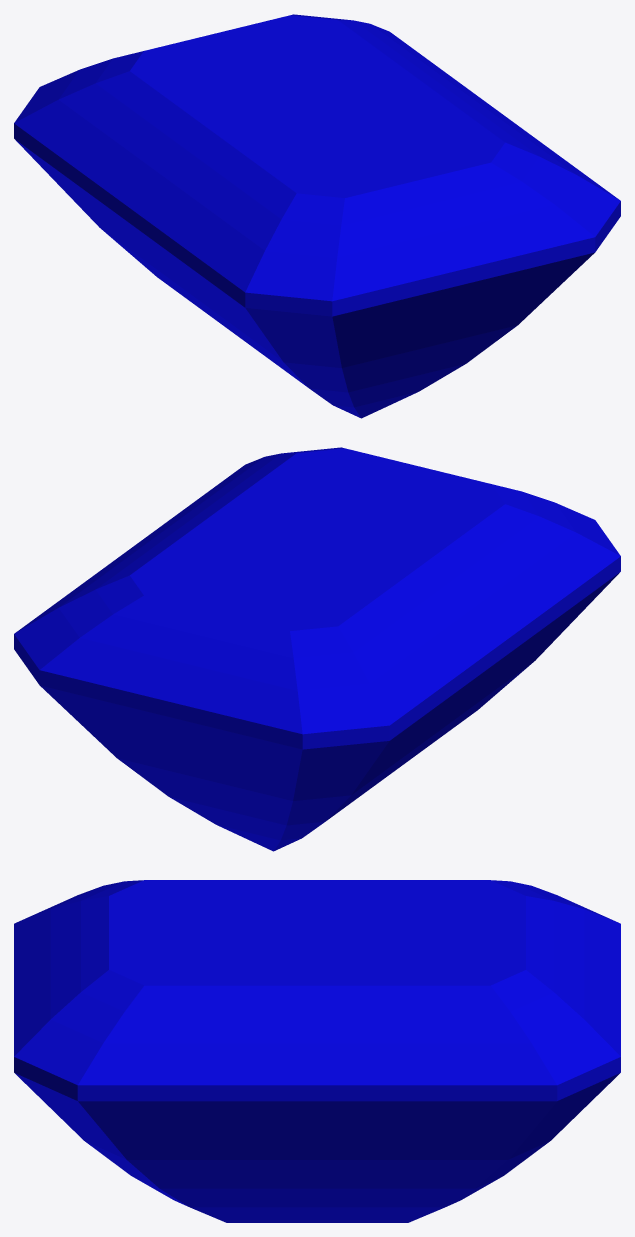
The model's file is Head_Hidden Halo_Emerald_3.0ct_Diamond.glb.
The picture shows the model from 3 angles, top to bottom: view 1: azimuth 30°, elevation 25°; view 2: azimuth 150°, elevation 25°; view 3: azimuth 270°, elevation 25°; orthographic projection. The views are drawn at different scales.
Bounding box in the file's own units: 0.00698 × 0.00496 × 0.00942.
